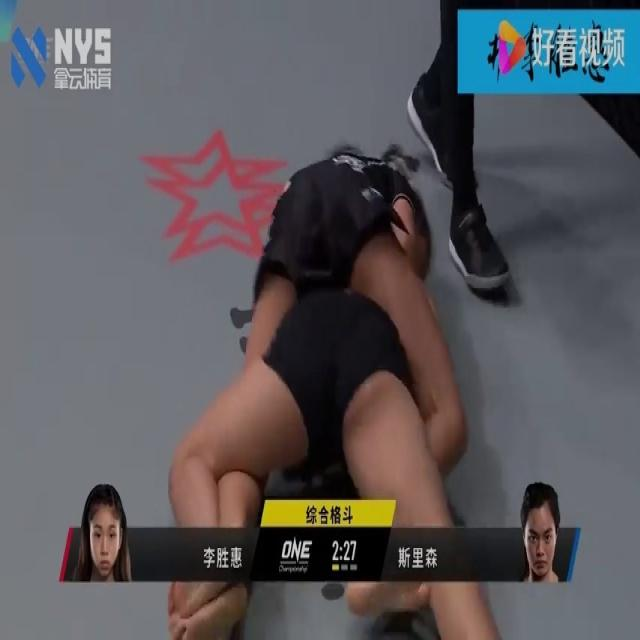fight: (167, 139, 501, 640)
